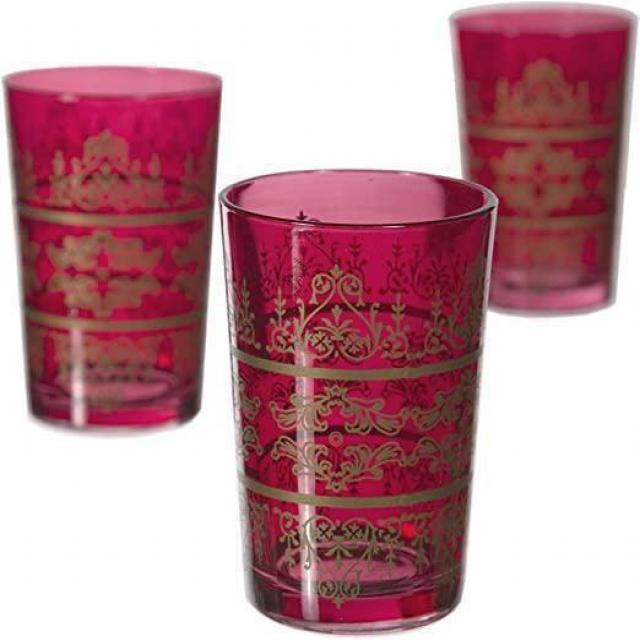glass-normal: (214, 166, 502, 636), (1, 61, 226, 437), (445, 1, 638, 318)
